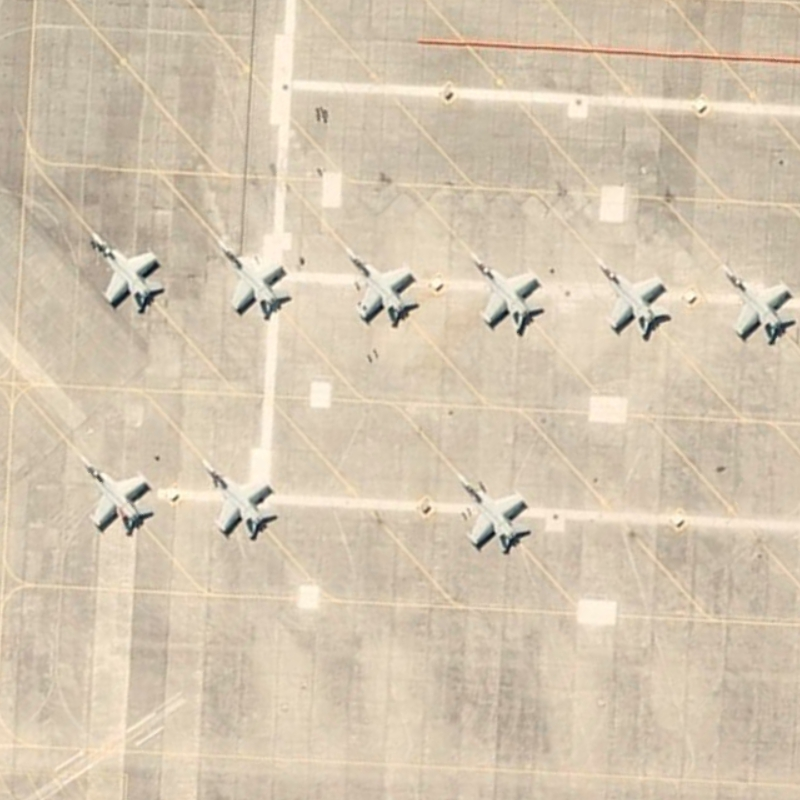A16: (191, 451, 283, 549), (443, 466, 537, 561), (337, 240, 426, 332), (589, 253, 675, 348), (211, 235, 297, 327), (84, 230, 171, 318), (466, 250, 551, 338), (73, 449, 155, 540), (715, 261, 796, 352)
